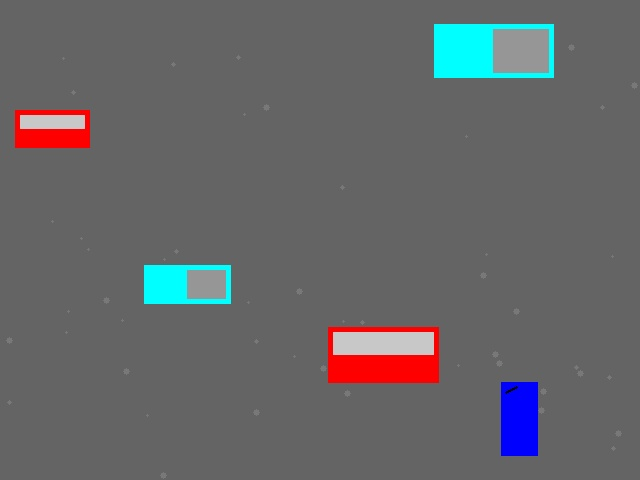car: (328, 327, 438, 382), (15, 110, 89, 147)
motorcycle: (501, 382, 537, 455)
truck: (434, 24, 553, 77), (144, 265, 230, 303)
